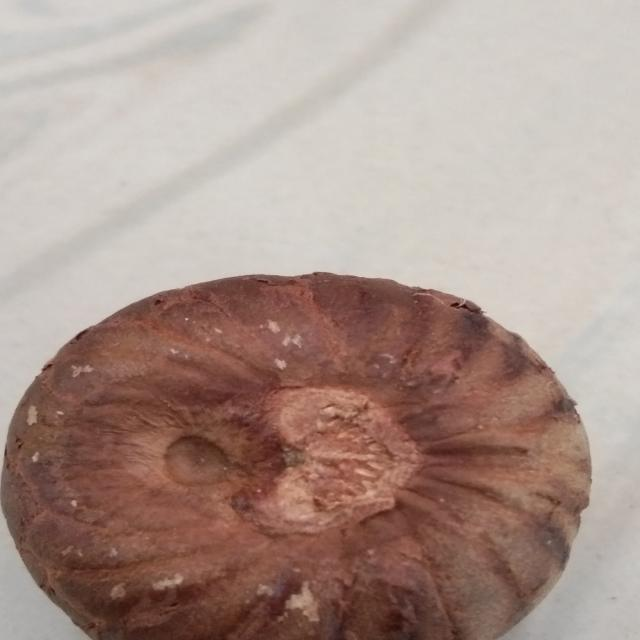karigot: (5, 265, 596, 640)
